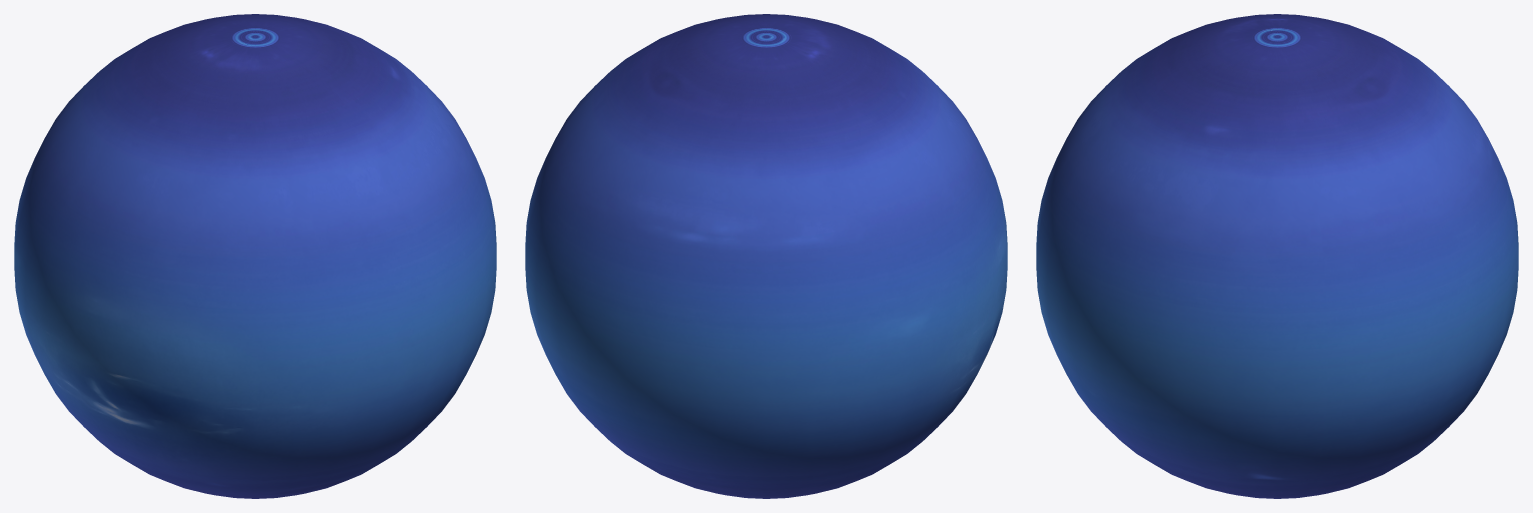
Rendered from neptuno.glb.
3 views of the same model, side by side, from view 1: azimuth 30°, elevation 25°; view 2: azimuth 150°, elevation 25°; view 3: azimuth 270°, elevation 25° (orthographic).
Size of the model in its own units: 2 by 2 by 1.99.
1 material, 1 textured.
